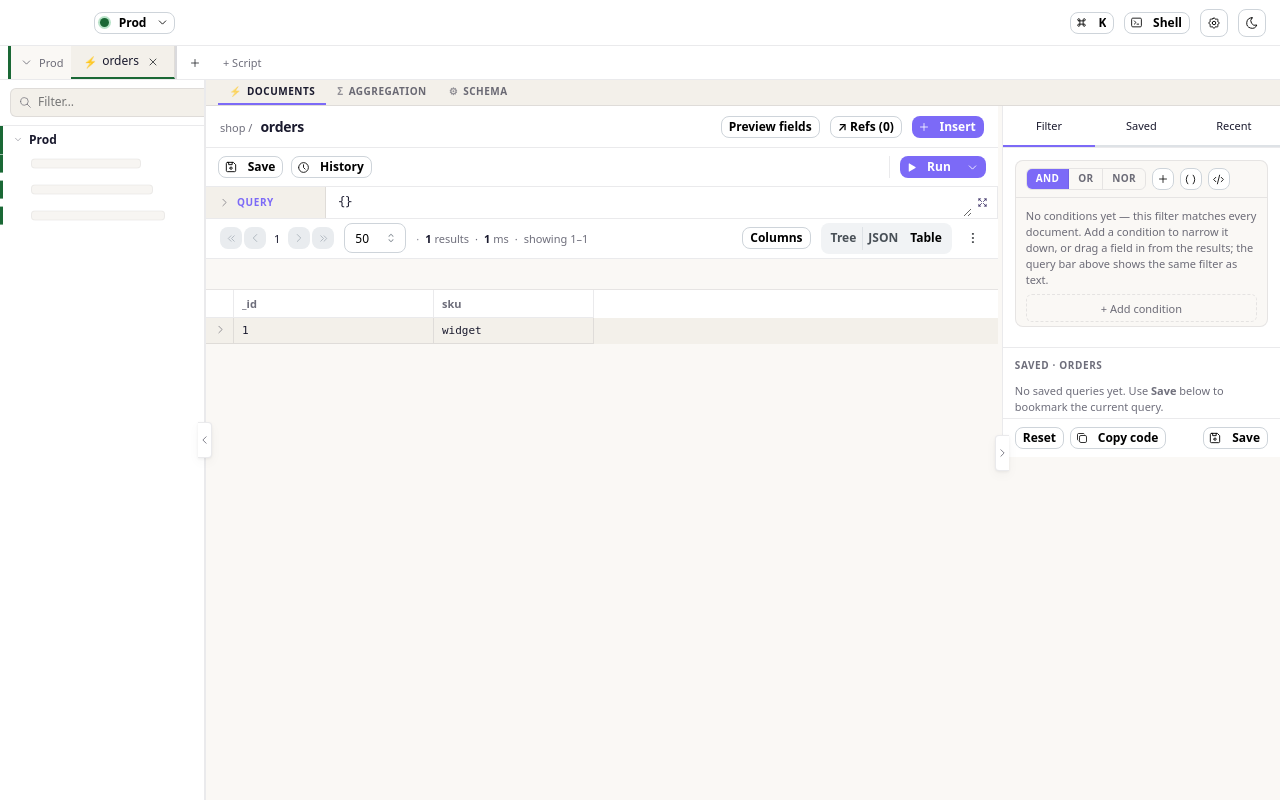
Test: workspace doc dialogs (T2) › "Duplicate document" opens InsertDrawer pre-filled with the source doc's EJSON minus _id
Step 1. Right-click the cell titled "Drag to add \"sku" → (514, 331), box [434, 318, 594, 344]
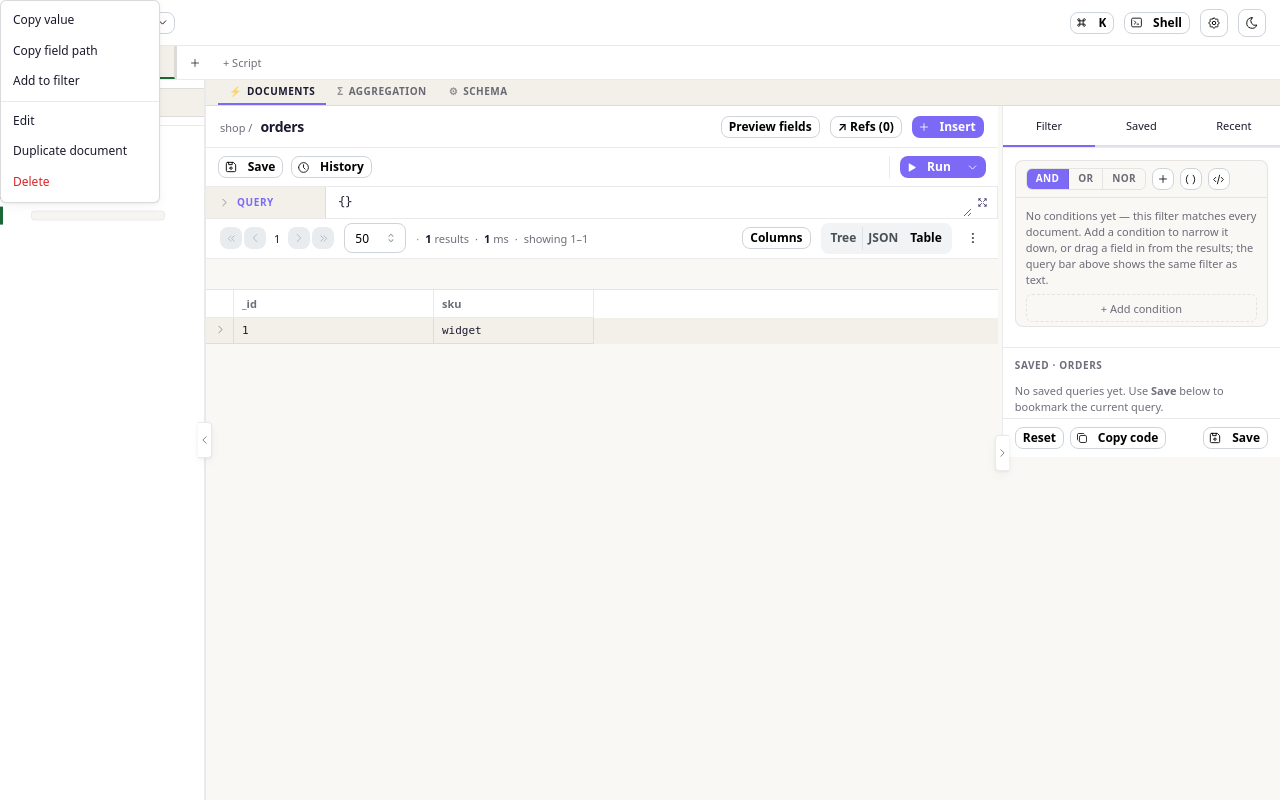
Step 2. Click the button "Duplicate document" → click(80, 152), box [1, 136, 159, 167]
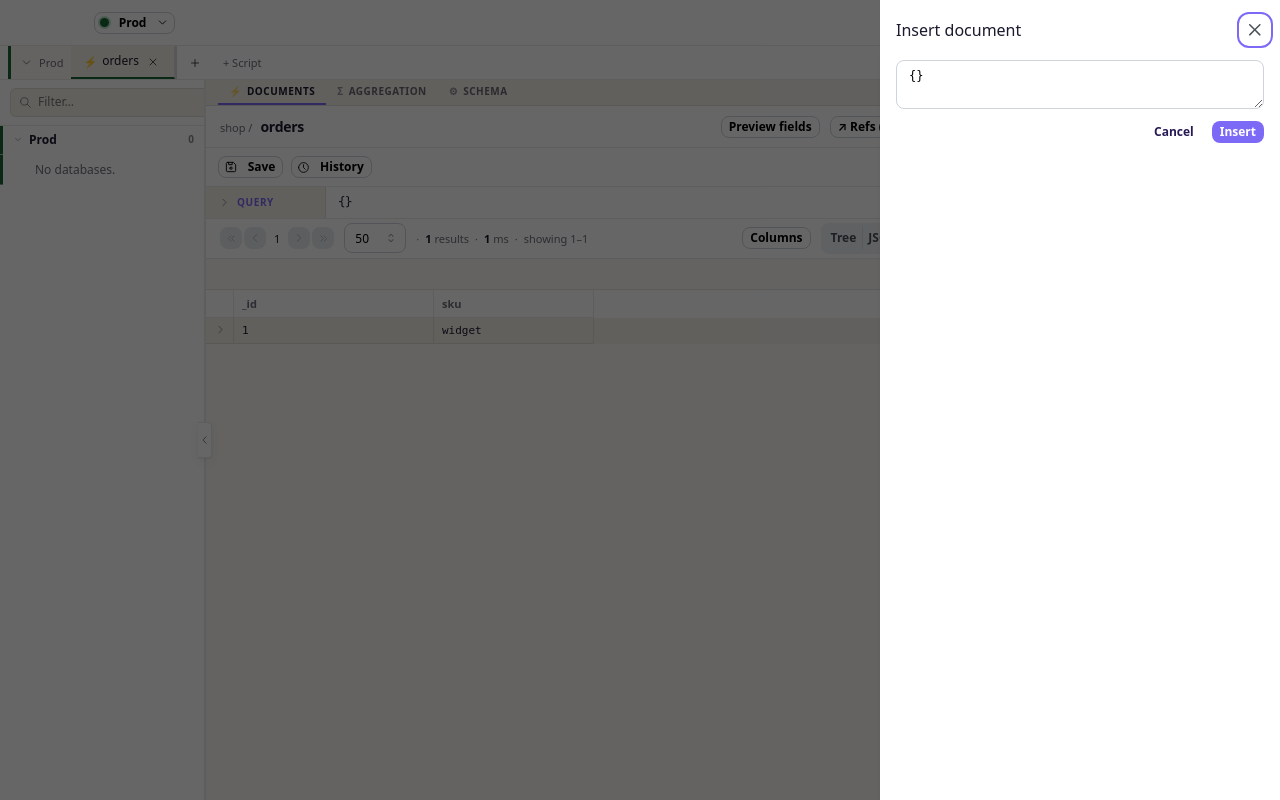
Expected: the text box holds "{}", [896, 60, 1264, 109]
